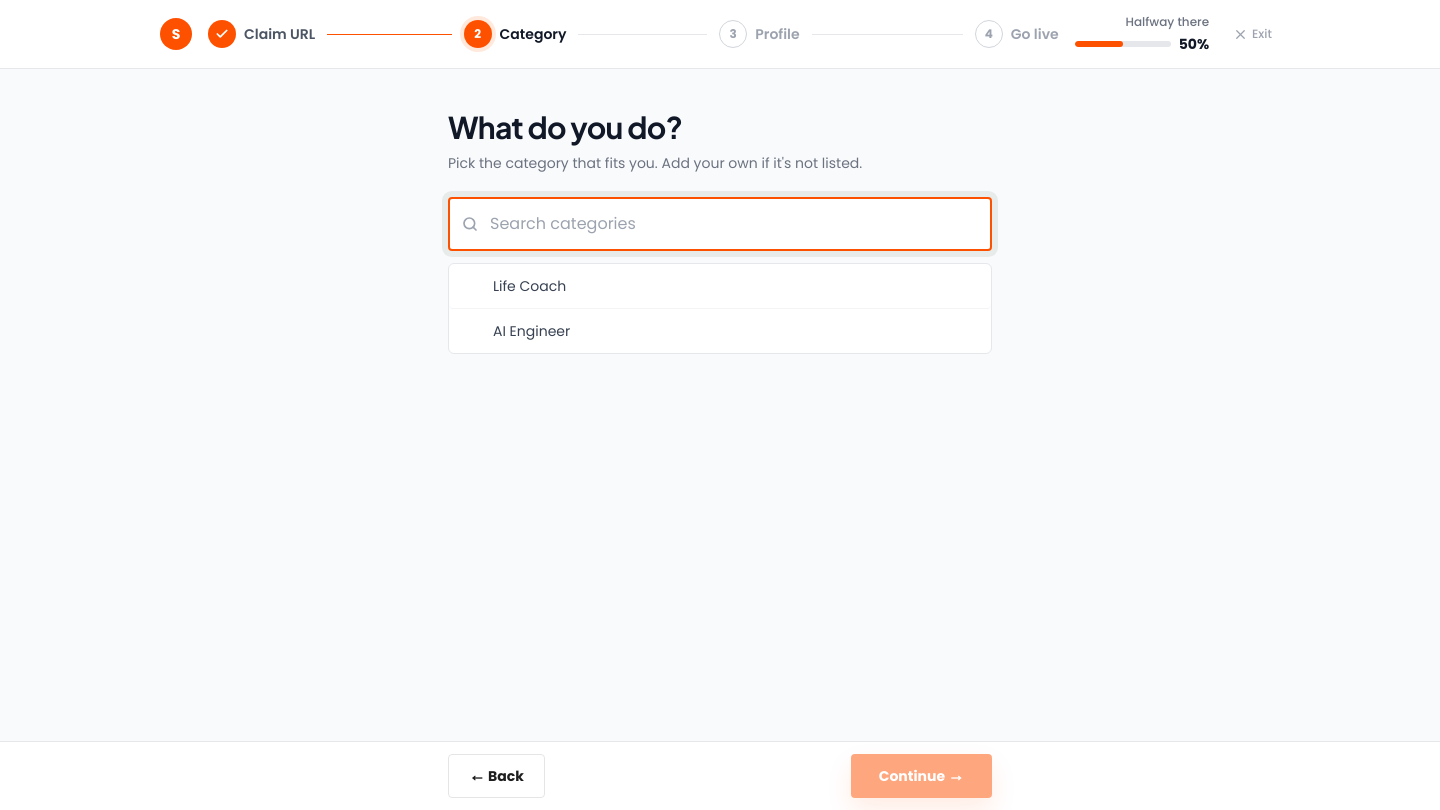
Test: (b) tapping a match selects it (shown as chip) and enables Continue
Expected: the button "Continue →" is disabled, [851,754,992,798]
Tap "Life Coach" — it becomes the chip
Click the button "Life Coach".
click(530, 286)  # box [449,264,991,309]
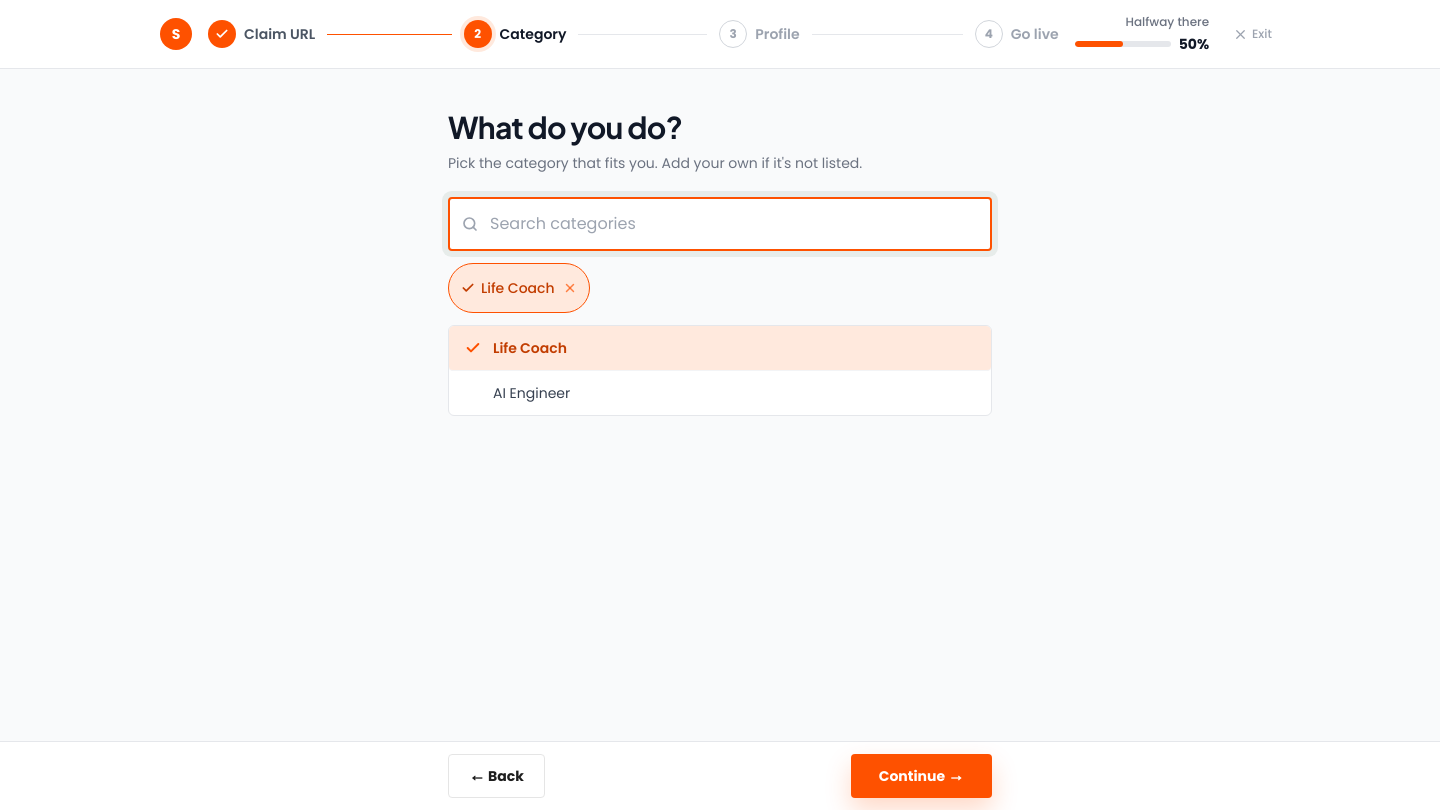
Now the button named "Remove Life Coach" is shown, box [563,268,577,308]
Now the button "Continue →" is enabled, box [851,754,992,798]
Selecting another replaces the chip (single-select)
Click the button "AI Engineer".
click(532, 393)  # box [449,371,991,415]
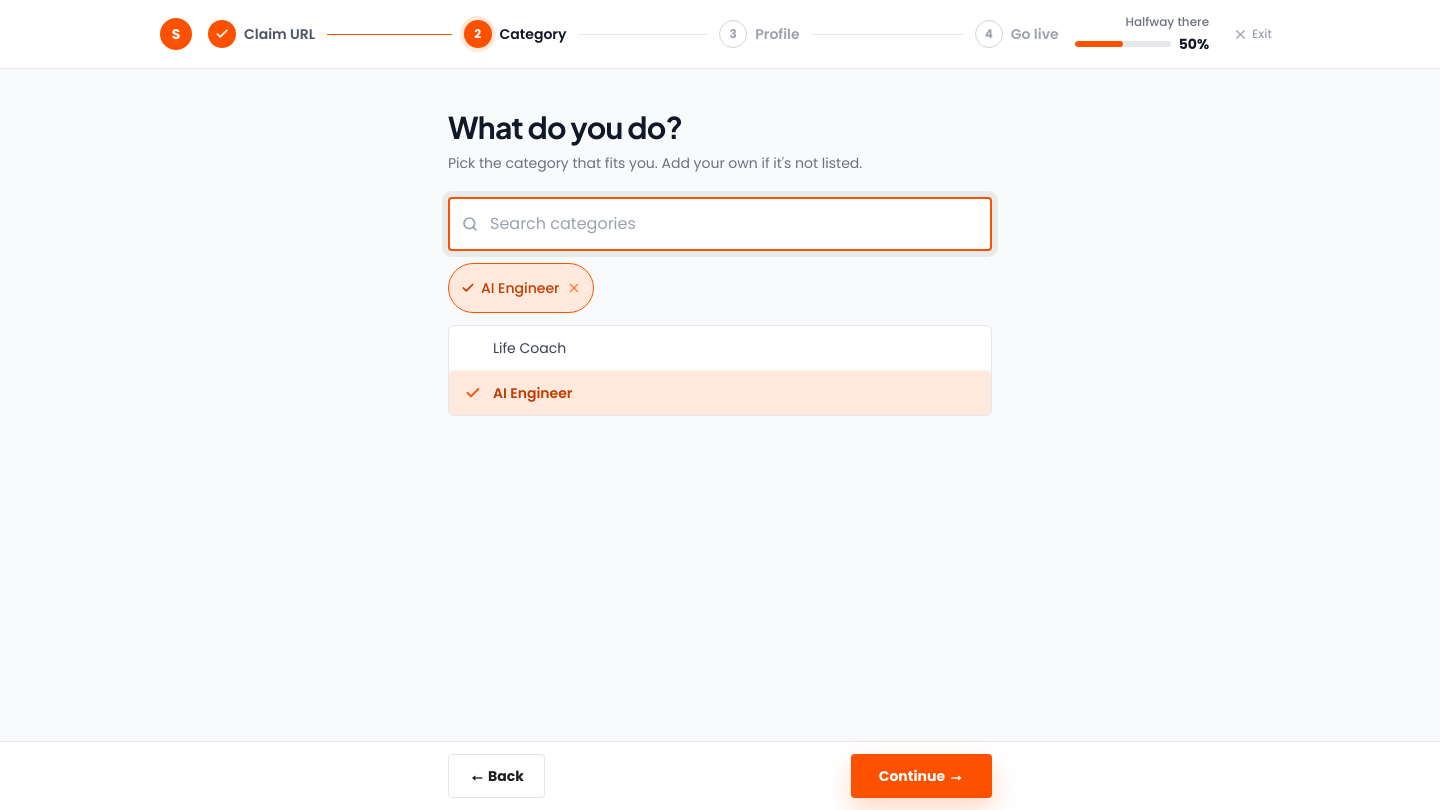
Now the button named "Remove AI Engineer" is shown, box [568,268,582,308]
